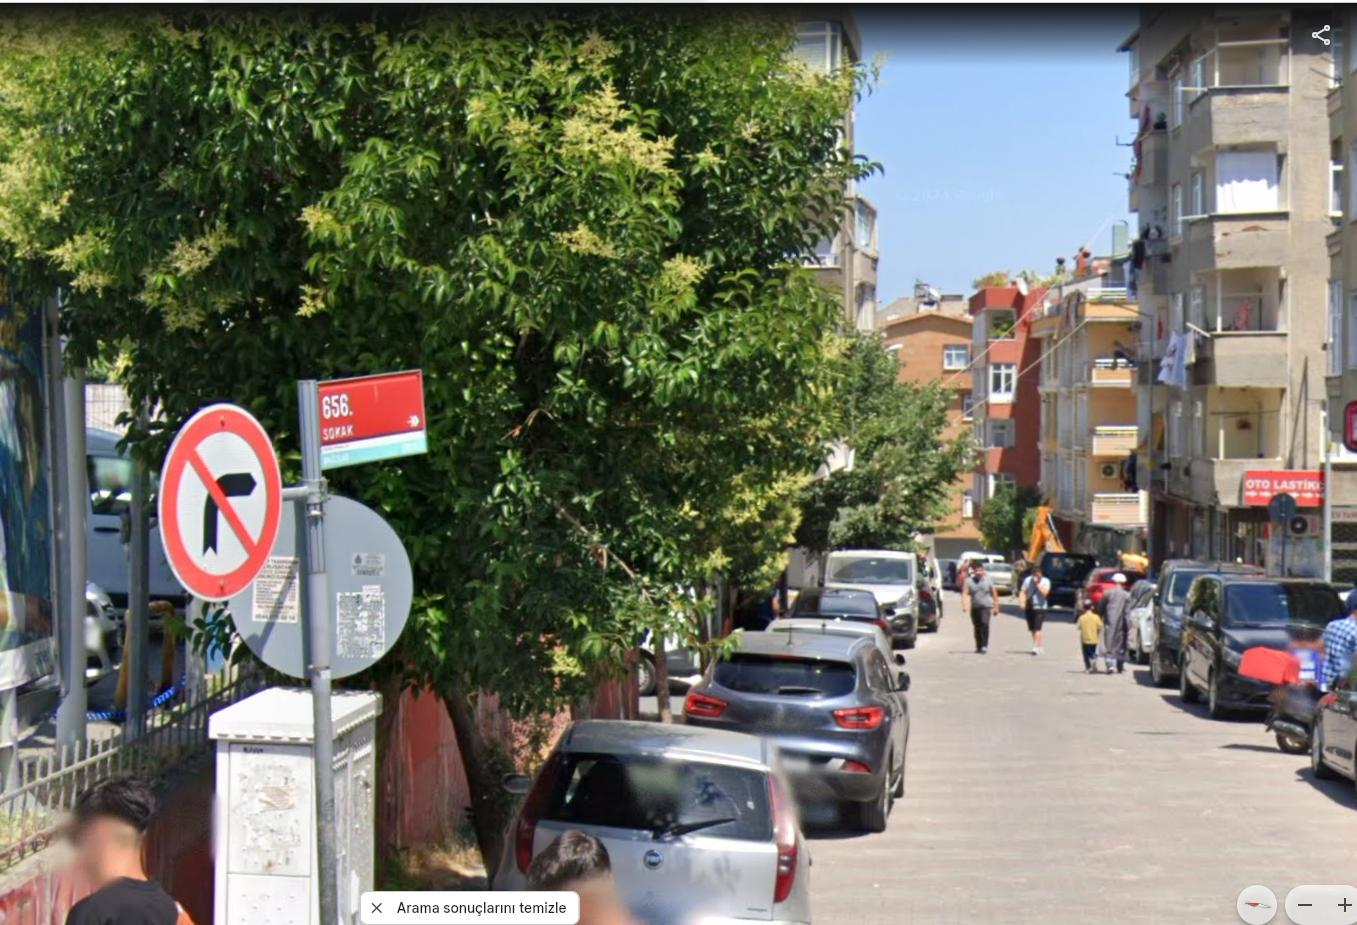rightturnsareforbidden: (162, 405, 283, 598)
